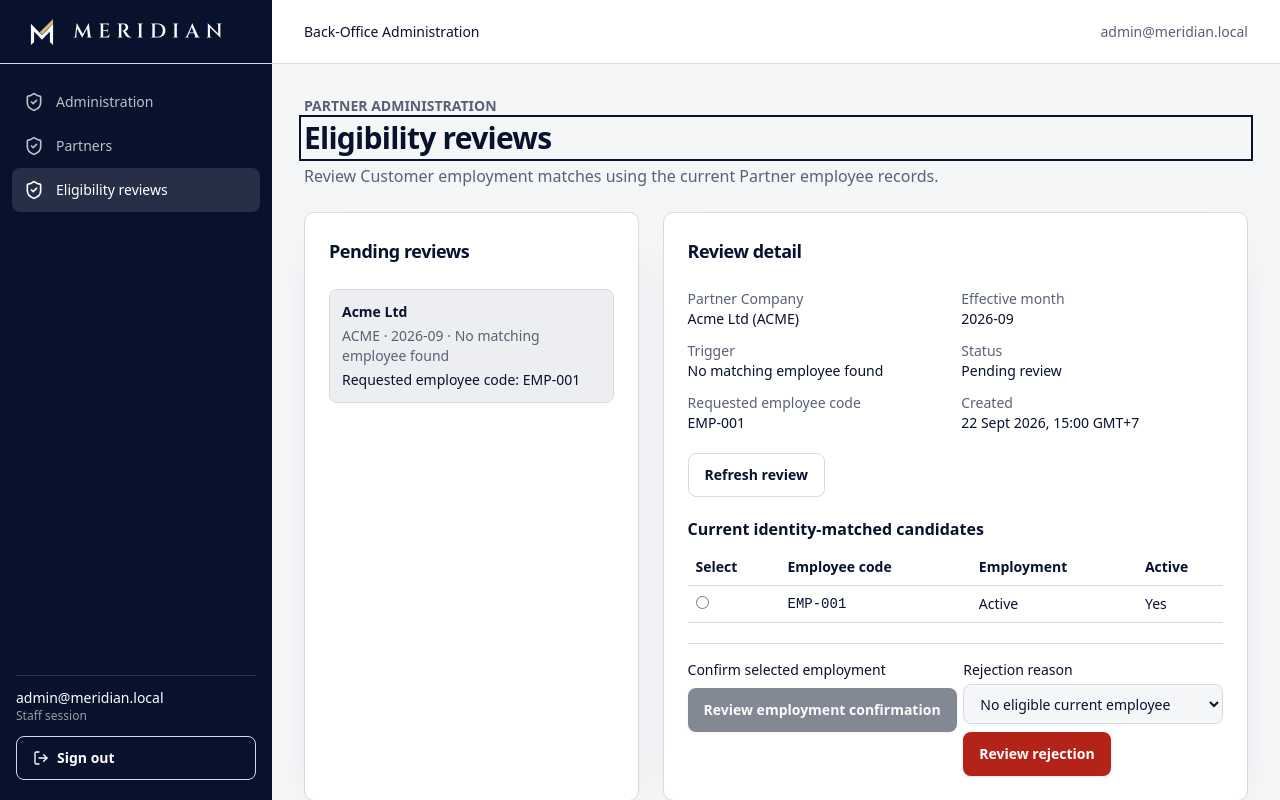
Partner eligibility review page › classifies a matching approval after an uncertain command as confirmed
Step 1. Click the radio button named "Select EMP-001" → (702, 602), box [696,596,708,609]
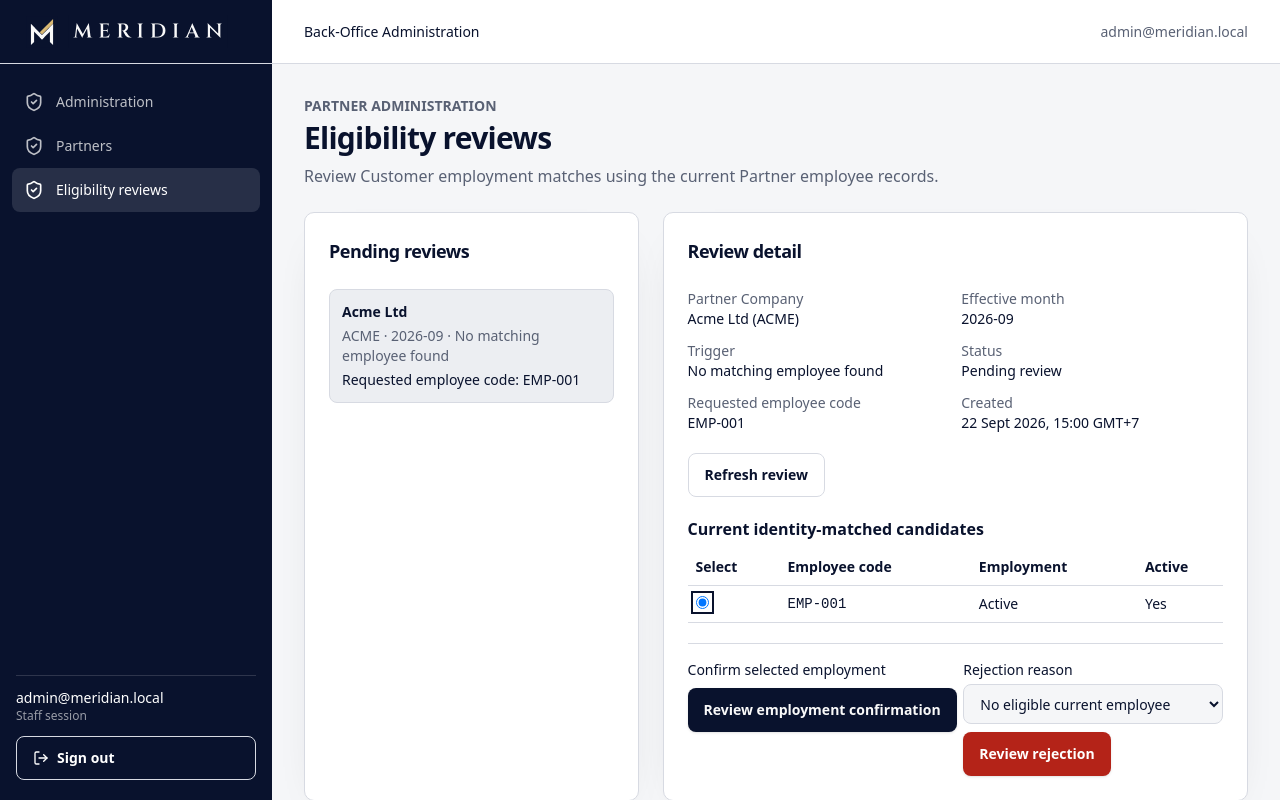
Step 2. Click the button "Review employment confirmation" → (822, 710), box [688,688,957,732]
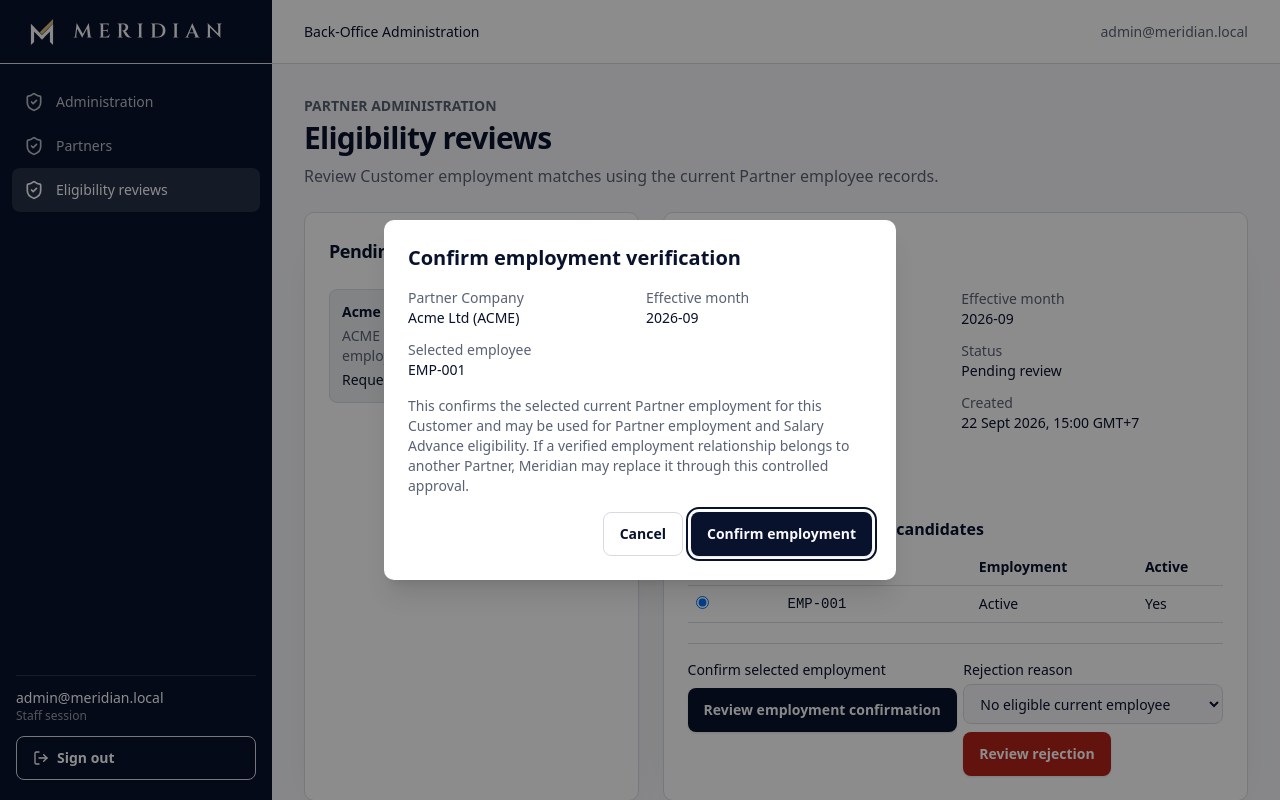
Step 3. Click the button "Confirm employment" → (782, 534), box [691,512,872,556]
(page scrolled)
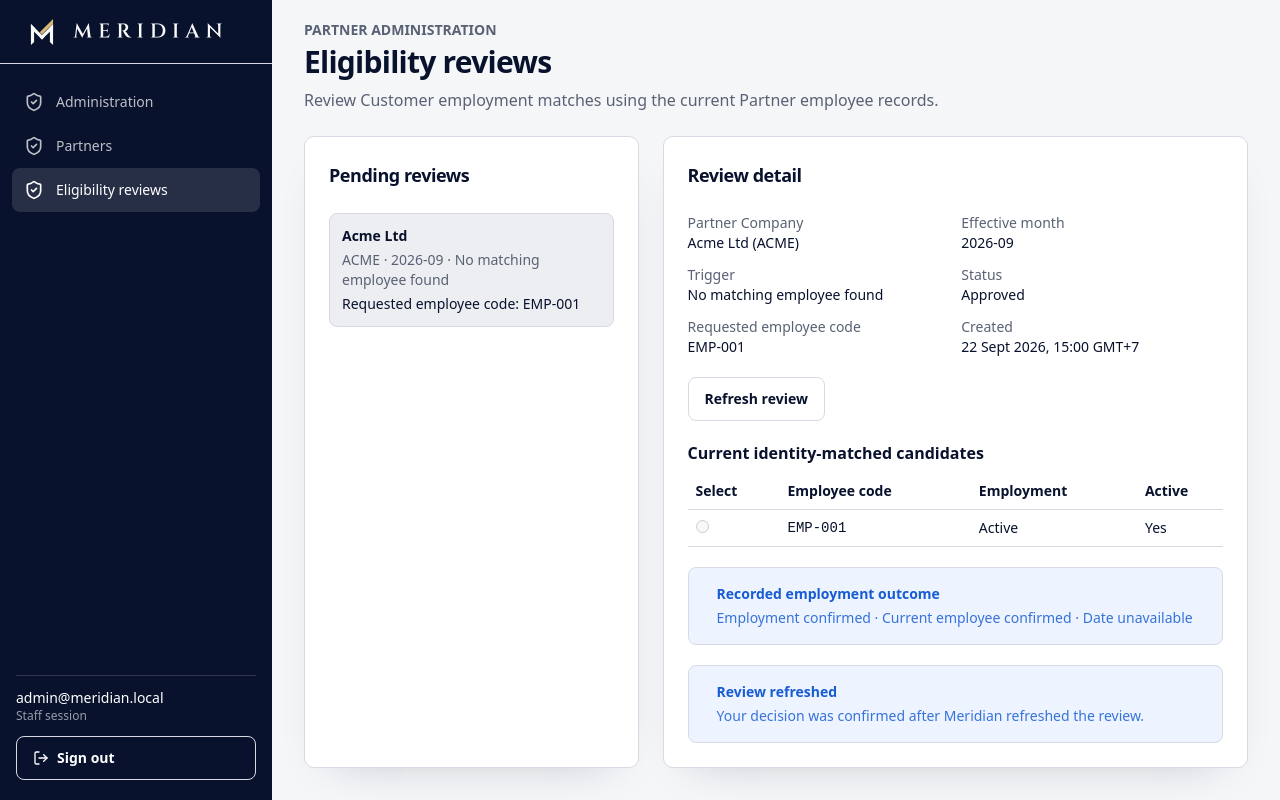
Expected: the text "Your decision was confirmed after Meridian refreshed the review." is shown, [716,706,1206,726]
